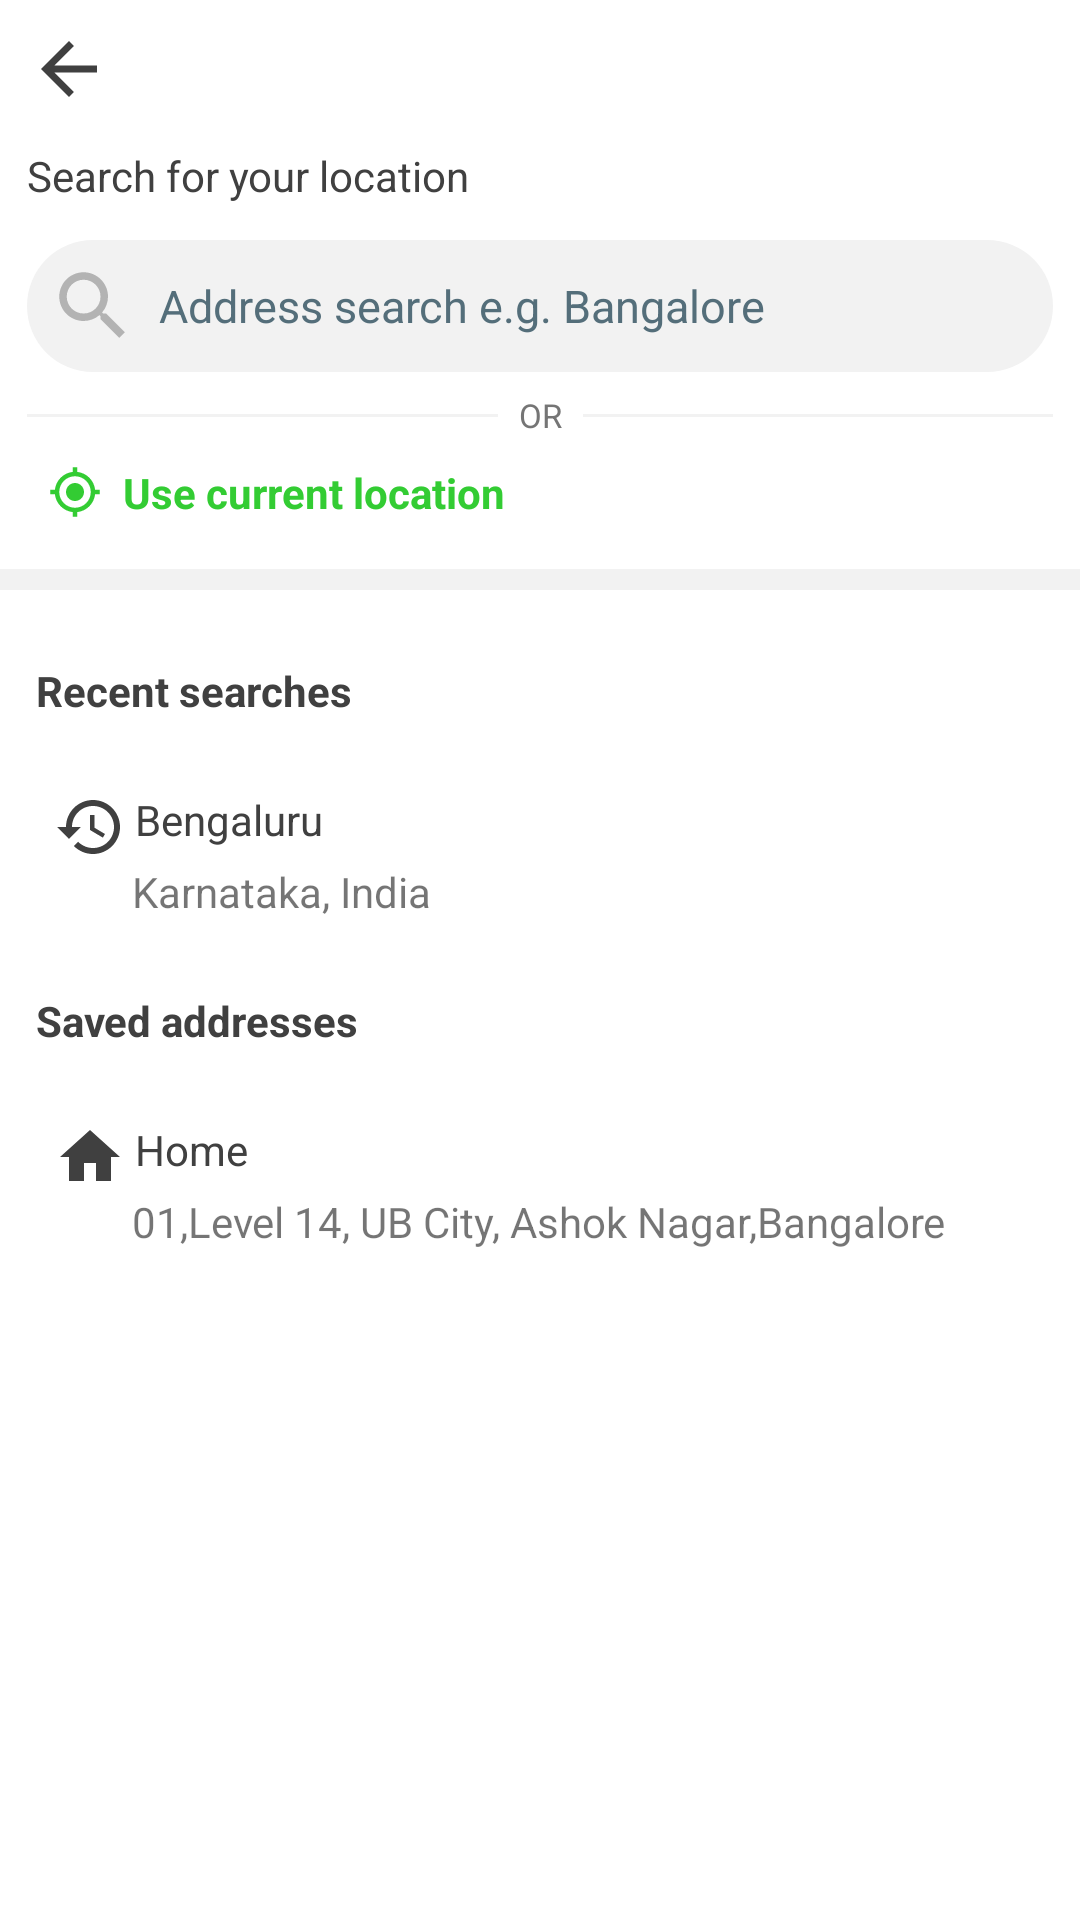

Named icons in this screenshot (1080x1920) and their bounding boxes, region(x1, y1, x2, y2):
arrow back: region(41, 41, 97, 97)
